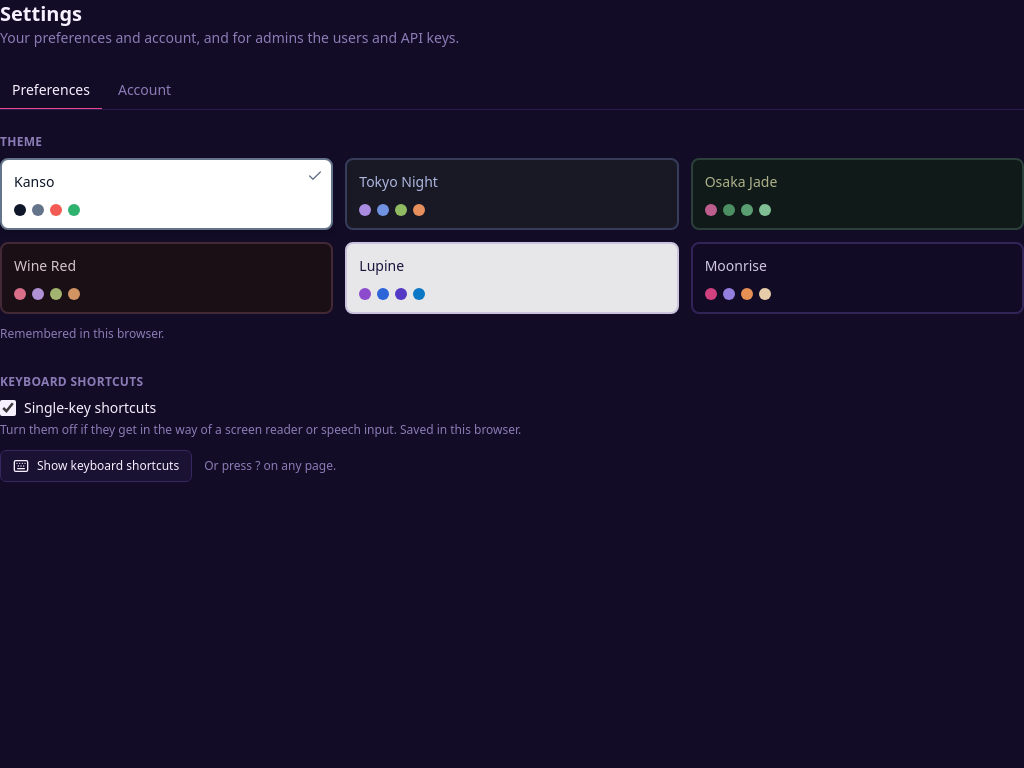
it: the settings page › keyboard shortcuts › opens the list of shortcuts
This screenshot has width=1024, height=768.
Expected: the heading "Settings" is shown, [0,0,82,27]
Step 1. Click the button "Show keyboard shortcuts" → (96, 466), box [0,450,192,482]
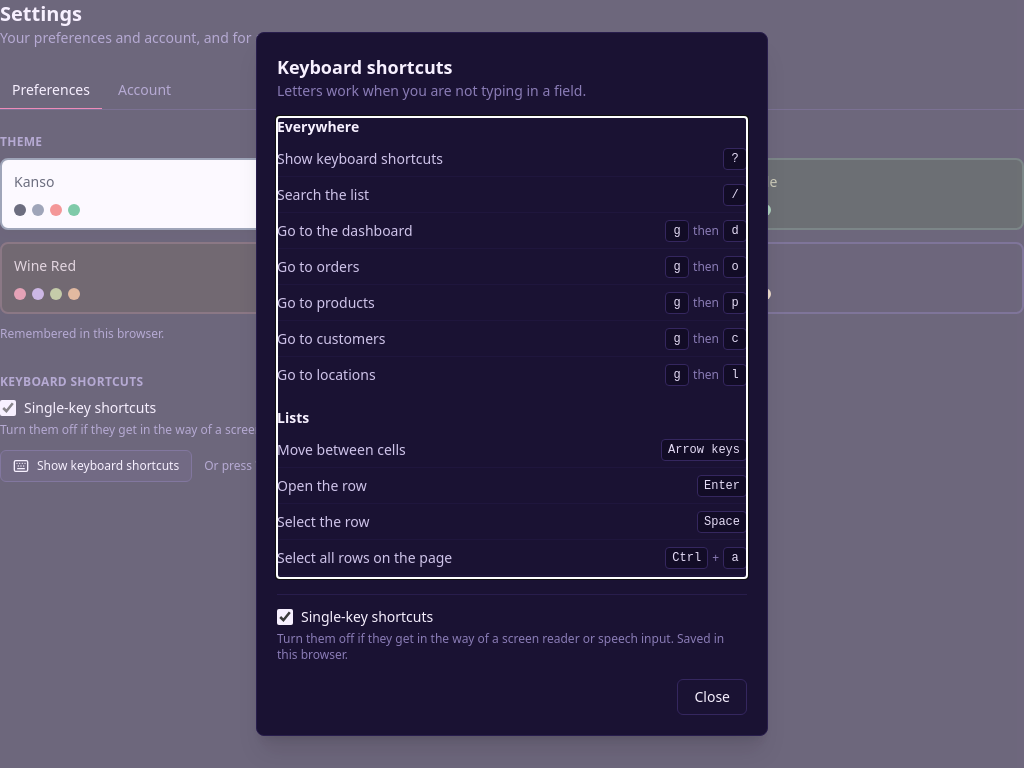
Result: the dialog "Keyboard shortcuts" is shown at [256,32,768,736]
